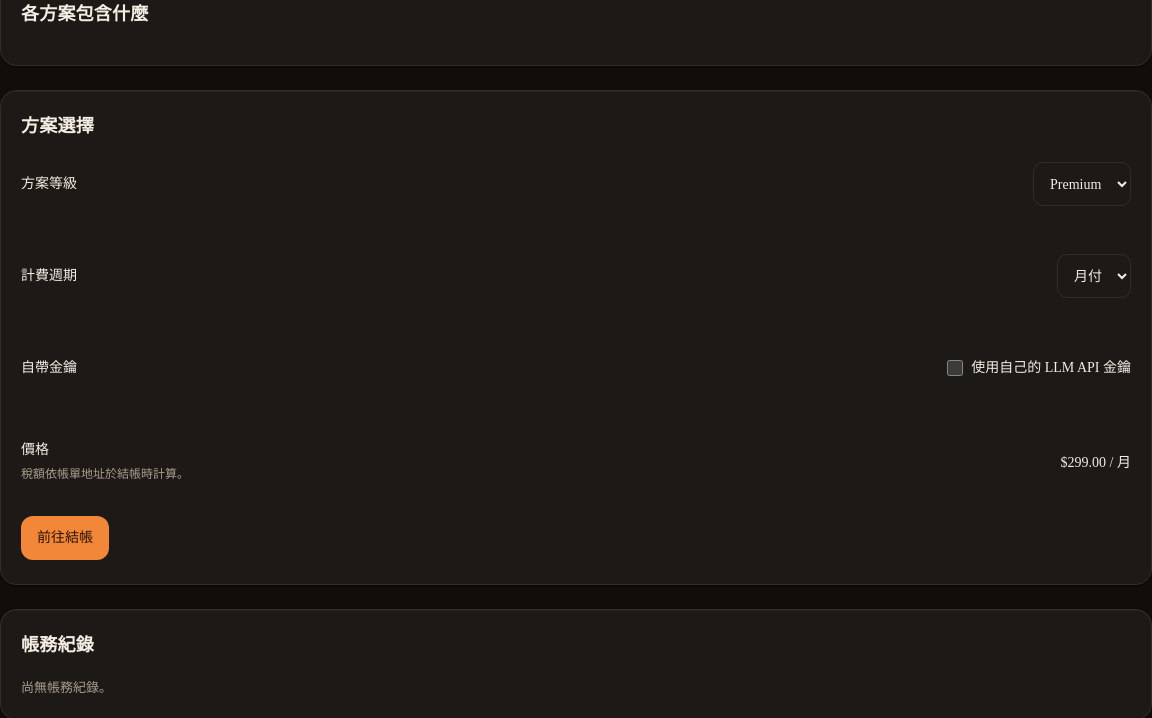
Test: BillingPanel actions › shows checkout-unavailable when paddle.js did not load
The image size is (1152, 718).
(page scrolled)
Click the button "前往結帳". click: (65, 538)
box: [21,516,109,560]
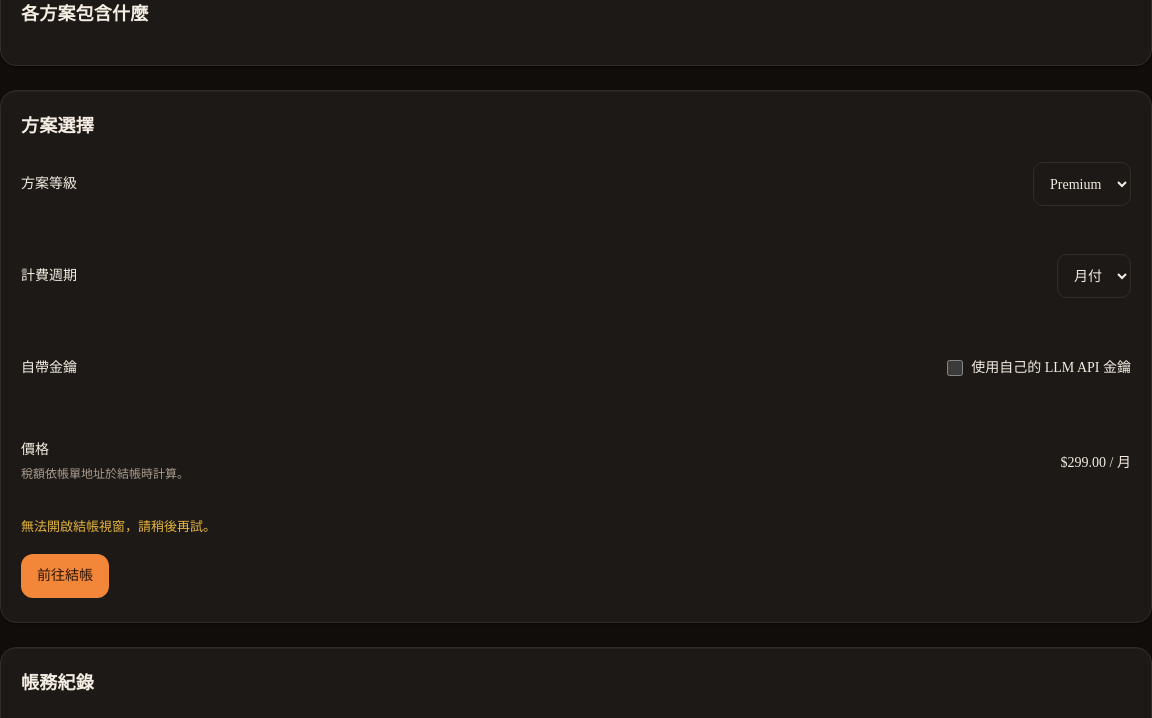
Expected: the message reads "無法開啟結帳視窗，請稍後再試。", [21,519,216,534]
